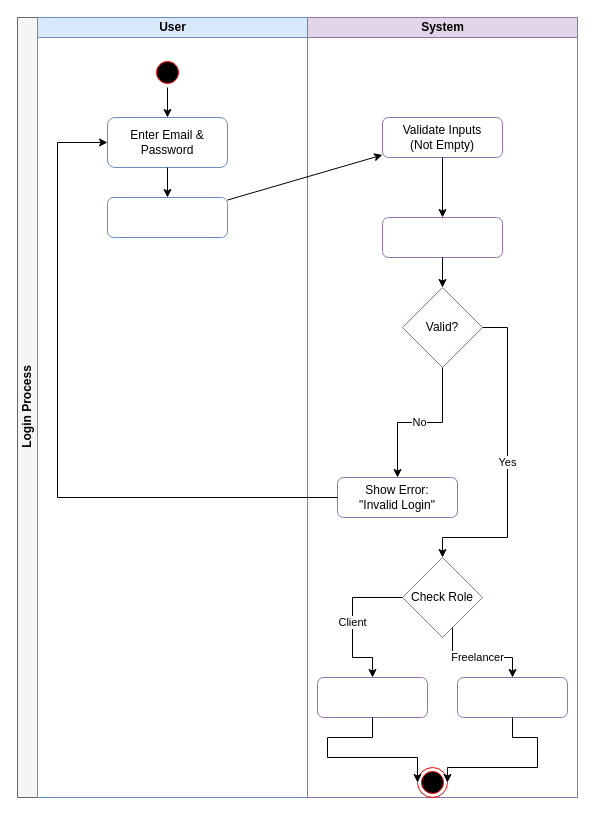
Some shapes in this 595 by 815 pixel diagram are drawn without their labels. The centre of each missing label's shape, as x and y in pixels:
Click "Login": (x=167, y=217)
Redirect to Client Dashboard: (x=372, y=697)
Redirect to Freelancer Feed: (x=512, y=697)
Verify Credentials in Database: (x=442, y=237)
